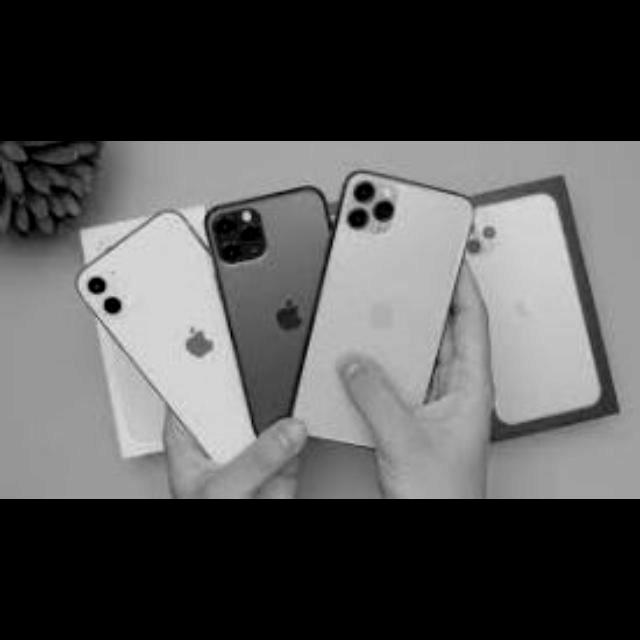fake: (78, 184, 488, 460)
